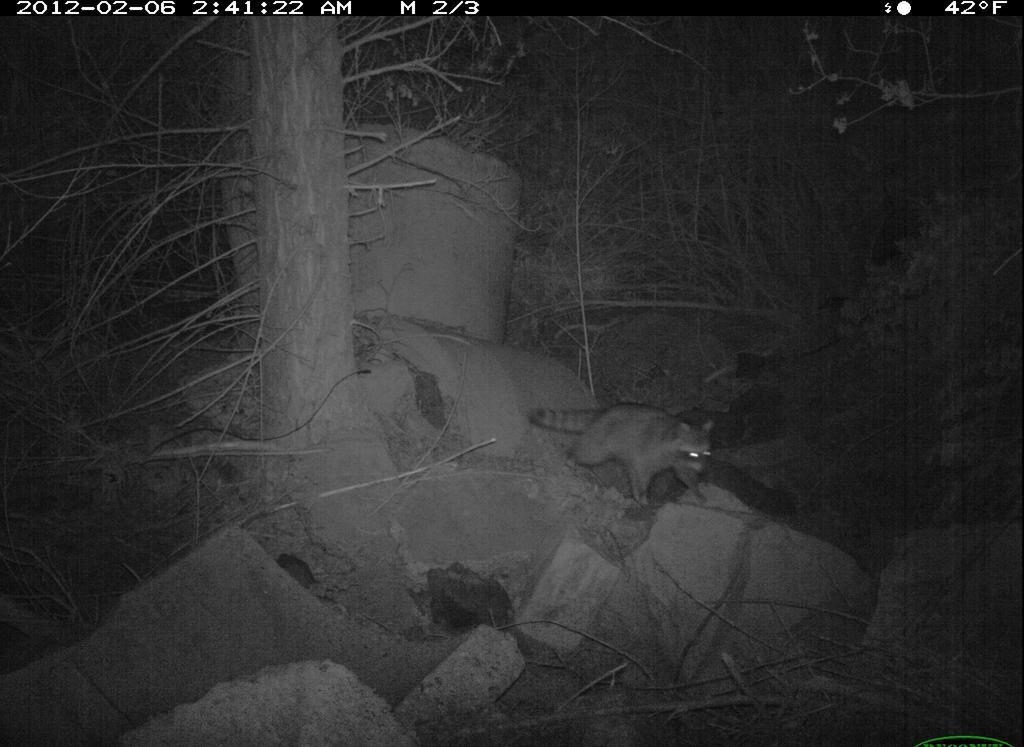raccoon: (521, 378, 739, 502)
